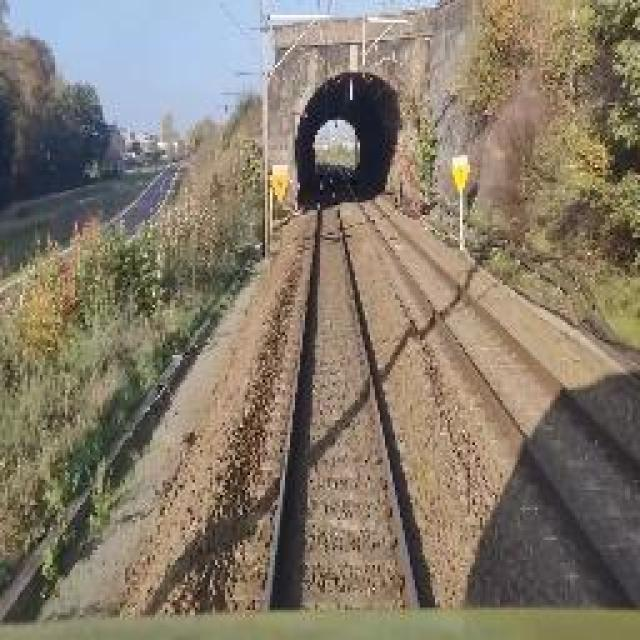rail: (236, 170, 442, 611)
